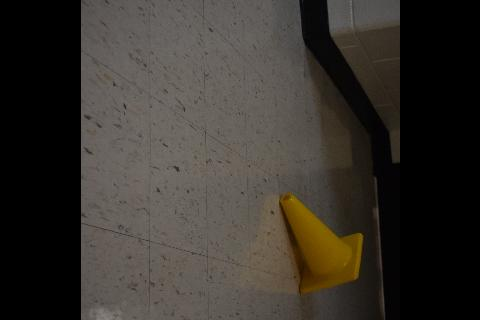cone: (279, 193, 363, 295)
